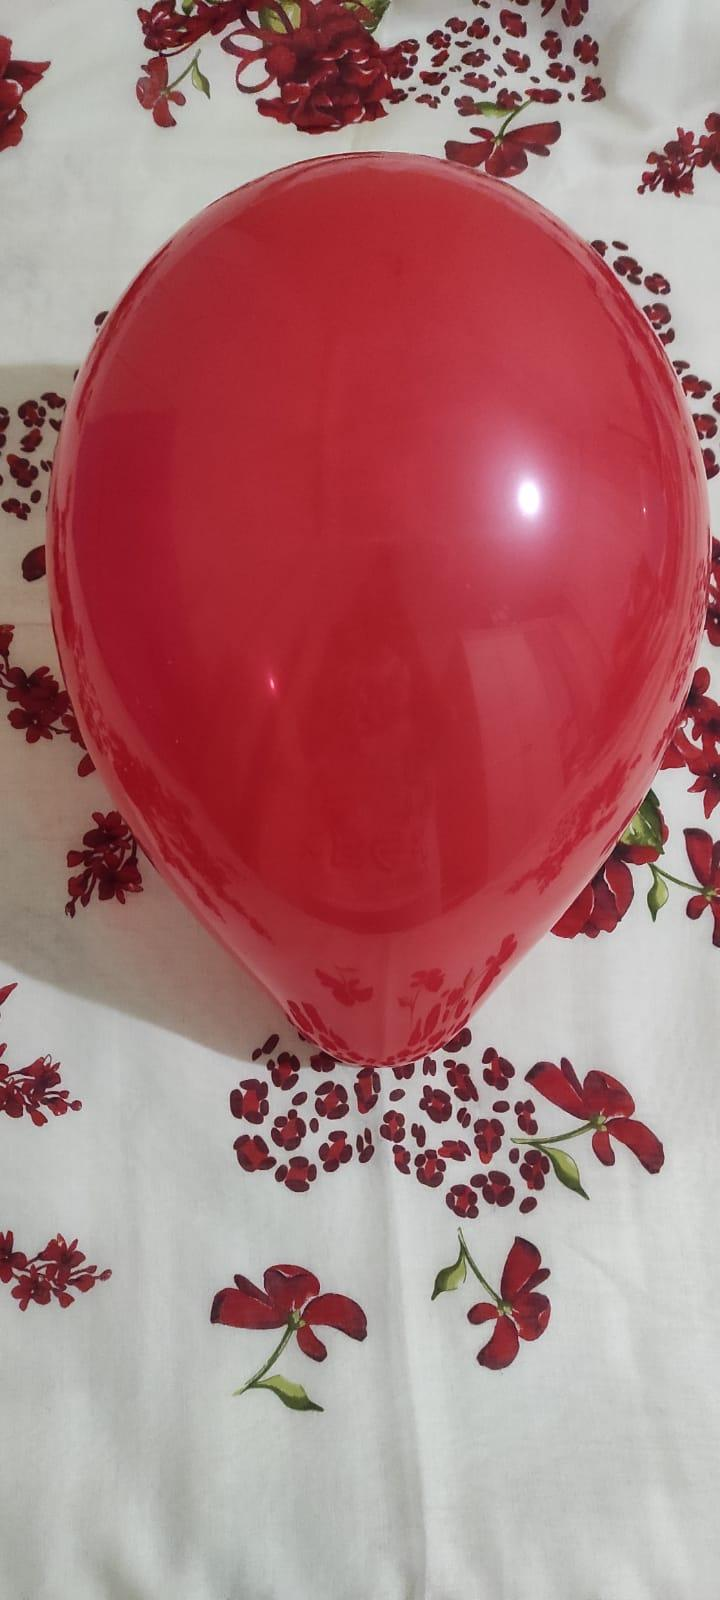red: (47, 151, 720, 1080)
